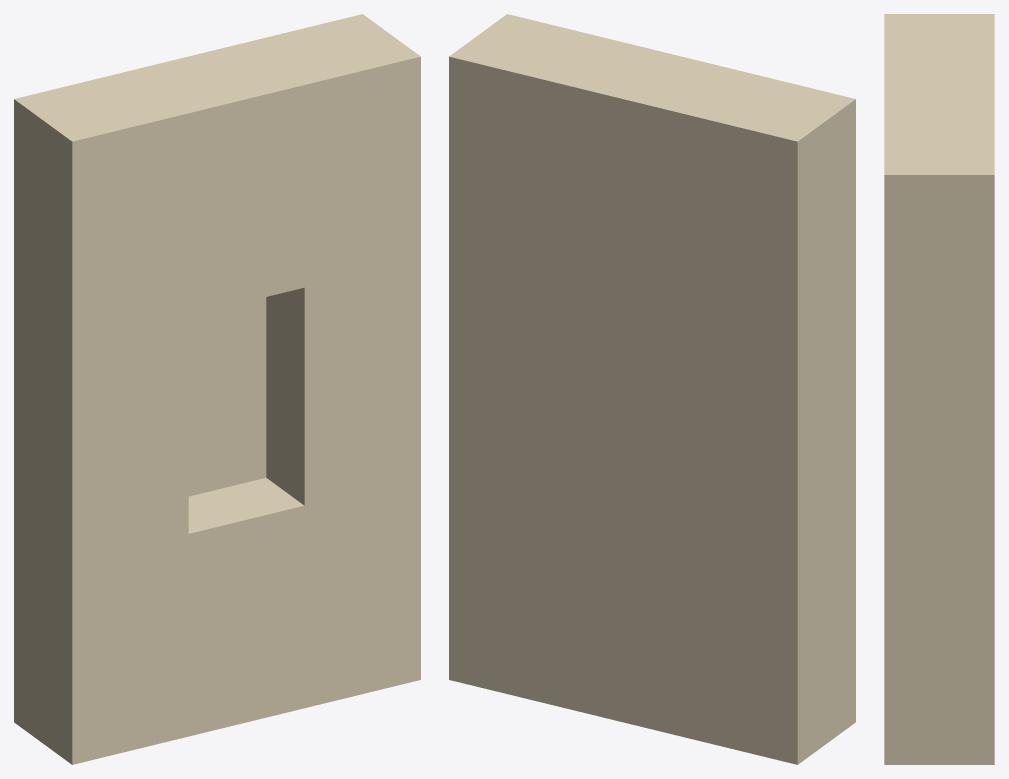
Rendered from Lightswitch.fbx.
The picture shows the model from 3 angles, left to right: view 1: azimuth 30°, elevation 25°; view 2: azimuth 150°, elevation 25°; view 3: azimuth 270°, elevation 25°; orthographic projection. The views are drawn at different scales.
Visible parts, largest first — view 1: Lightswitch; view 2: Lightswitch; view 3: Lightswitch.
Boxes of the visible parts, x1,y1,x2,y2 form: Lightswitch: (14, 14, 420, 764); Lightswitch: (449, 14, 855, 764); Lightswitch: (884, 14, 994, 764).
Size of the model in its own units: 12.52 by 21.38 by 3.62.
